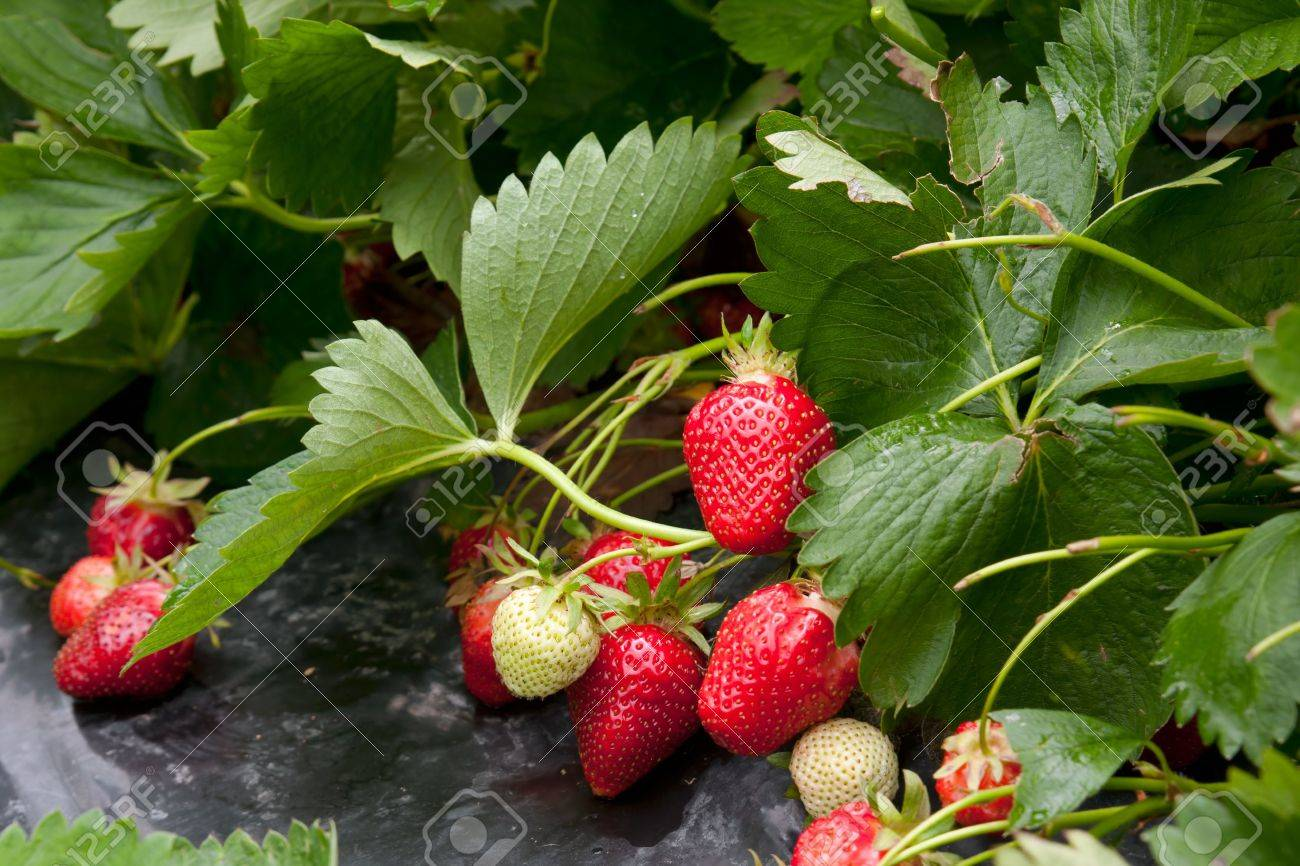ripe: (673, 361, 847, 562), (690, 576, 869, 763), (574, 624, 701, 802), (55, 580, 208, 697), (932, 705, 1046, 832), (81, 469, 202, 582), (456, 578, 553, 711), (583, 526, 704, 618), (43, 545, 148, 635), (448, 514, 543, 585), (779, 817, 920, 856)
unripe: (490, 582, 610, 706), (791, 713, 904, 820)
